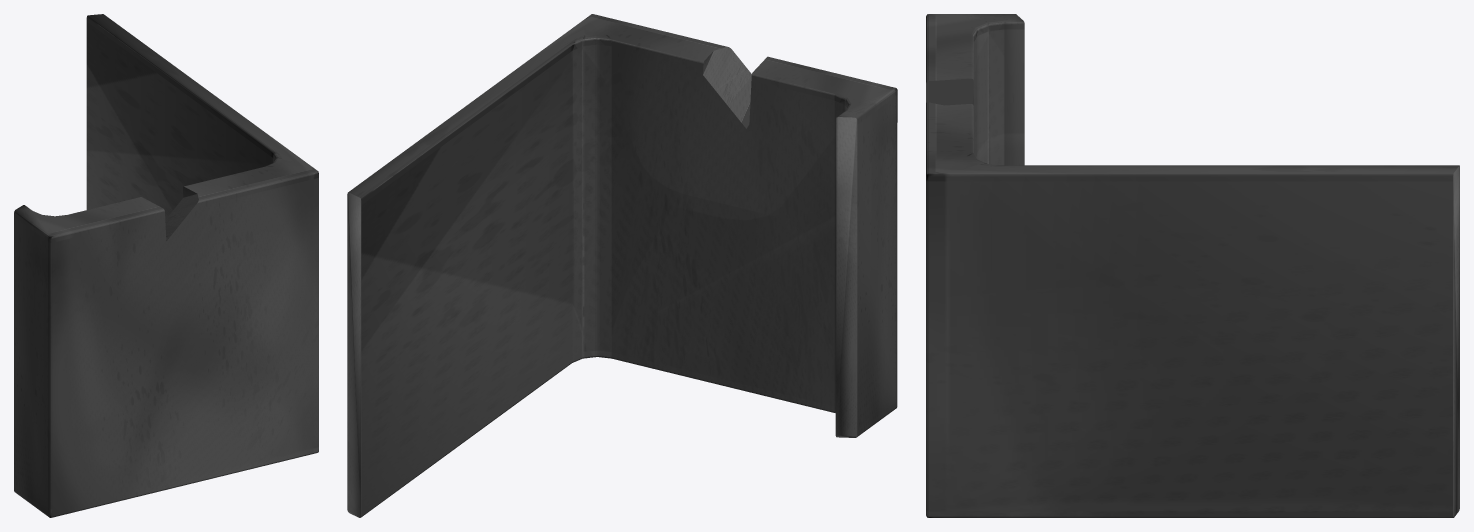
File: Brick-3-L.fbx
3 renders of one model, left to right at view 1: azimuth 30°, elevation 25°; view 2: azimuth 150°, elevation 25°; view 3: azimuth 270°, elevation 25°, orthographic. The views are drawn at different scales.
Parts seen in each view (by area): view 1: Brick-1.018; view 2: Brick-1.018; view 3: Brick-1.018.
Boxes of the visible parts, x1,y1,x2,y2 form: Brick-1.018: (14,14,318,517); Brick-1.018: (347,14,897,517); Brick-1.018: (926,14,1459,517).
Size of the model in its own units: 4343 by 4343 by 6090.
